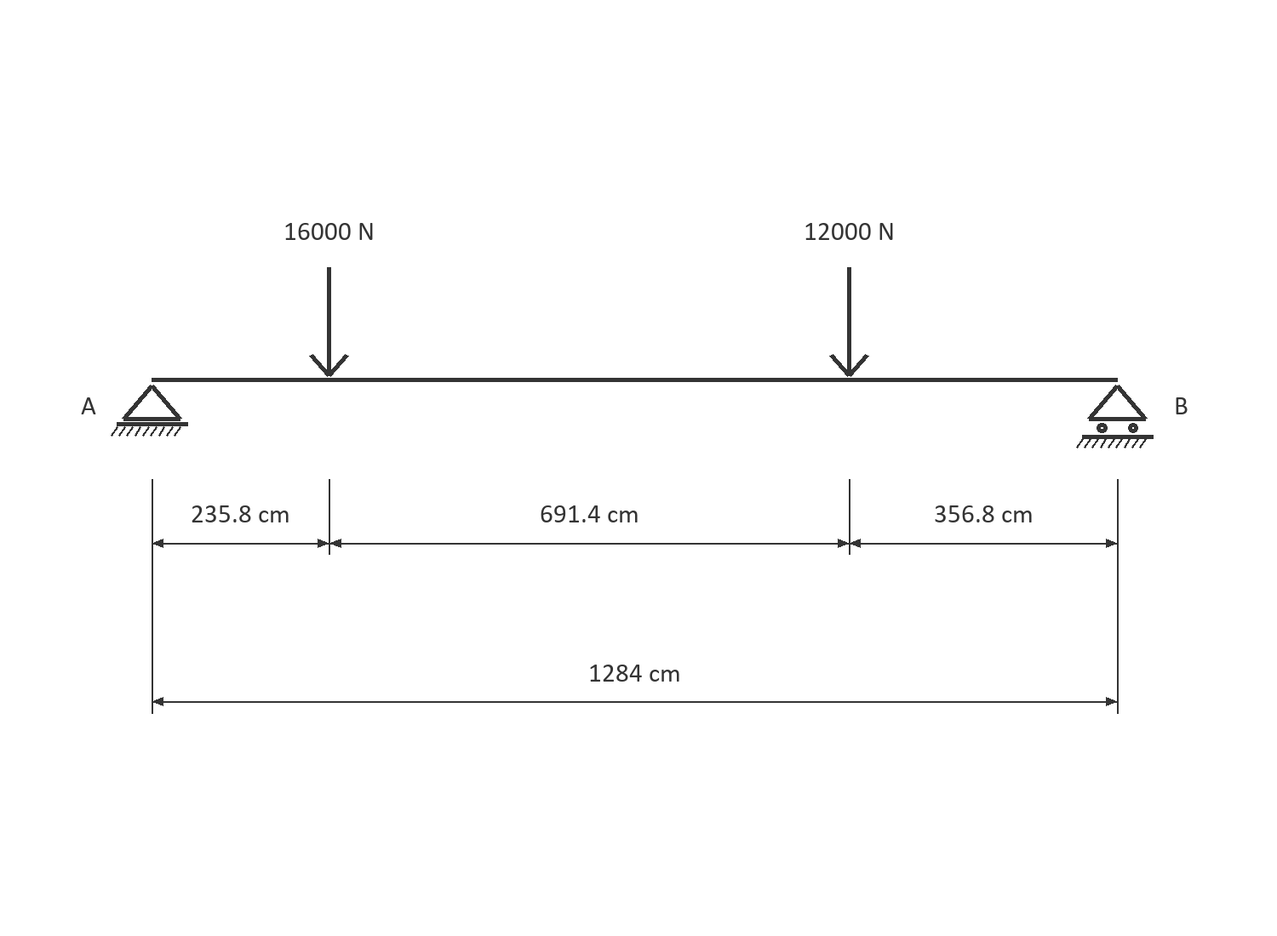pin_support: (111, 385, 188, 437)
point_load: (309, 267, 349, 377), (829, 267, 869, 377)
roller_support: (1076, 385, 1154, 448)
